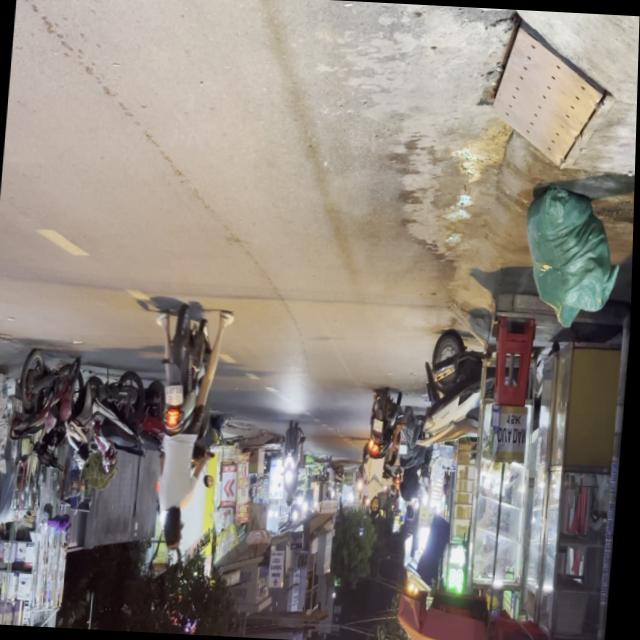licenseplate: (146, 303, 229, 554)
motorcyclist: (163, 510, 187, 550)
nohelmet: (166, 387, 185, 407)
